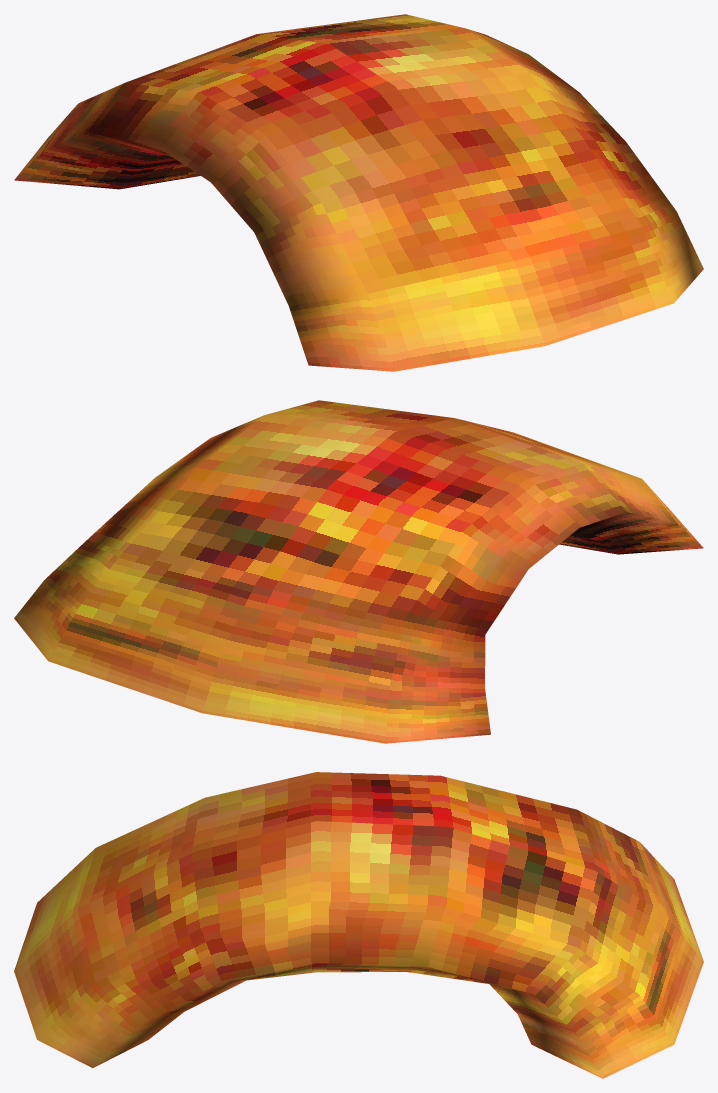
3 renders of one model, top to bottom at view 1: azimuth 30°, elevation 25°; view 2: azimuth 150°, elevation 25°; view 3: azimuth 270°, elevation 25°, orthographic.
Visible parts, largest first — view 1: SMDImport; view 2: SMDImport; view 3: SMDImport.
Boxes of the visible parts, box(x1,y1,x2,y2) form: SMDImport: box(14, 14, 703, 371); SMDImport: box(14, 400, 703, 743); SMDImport: box(14, 772, 703, 1078).
Bounding box in the file's own units: 519 × 156 × 647.
